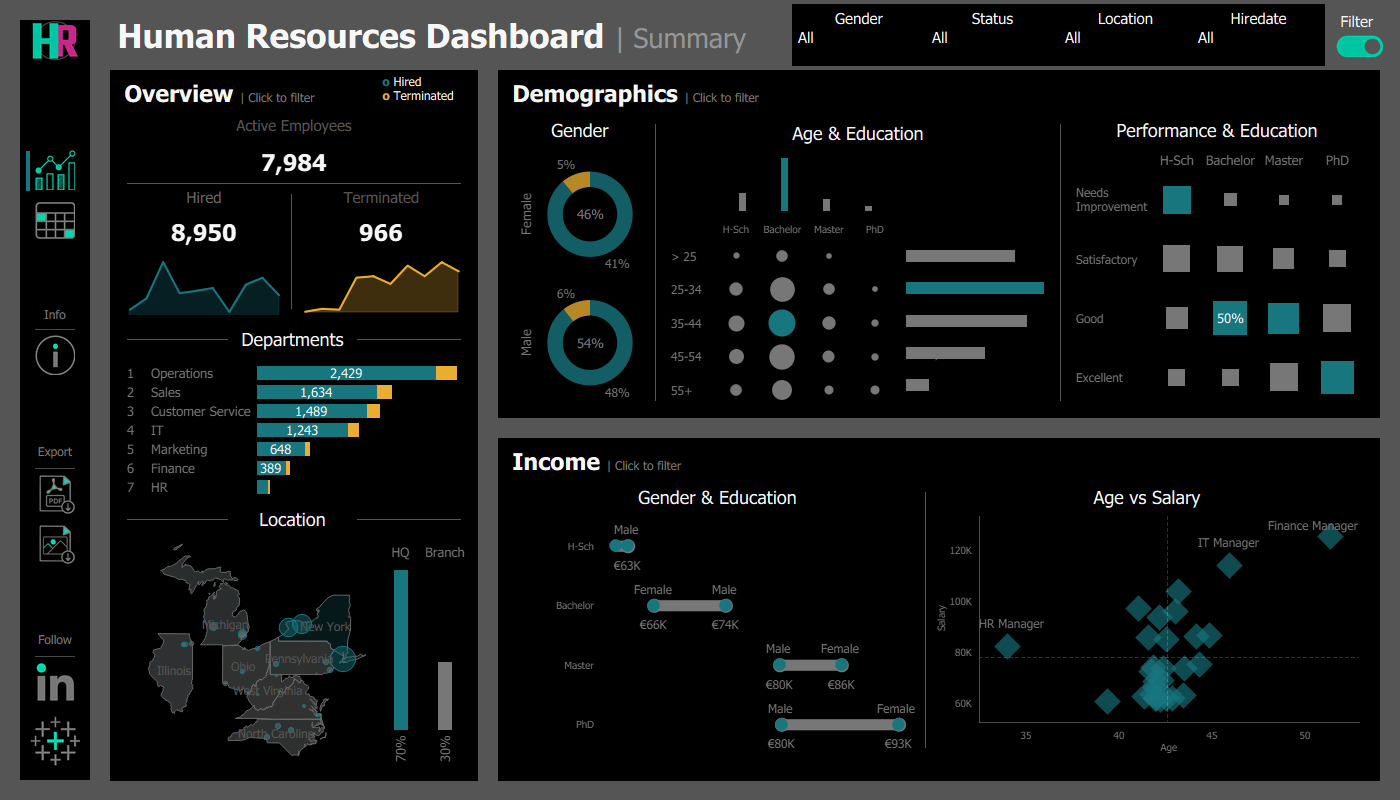

Layout of this report page (visuals, bound fields, positions):
{"tool":"tableau","page":{"name":"HR | Summary","canvas":[1400,800],"ordinal":1},"visuals":[{"type":"blank","box":[87,0,1314,236]},{"type":"text","box":[110,0,1270,70]},{"type":"filter","title":"Barbell Chart Salary vs Sex","param":"[federated.09x1m5c1q1dy1k1cbhton0vexwm2].[none:Gender:nk]","box":[792,4,134,62]},{"type":"filter","title":"Barbell Chart Salary vs Sex","param":"[federated.09x1m5c1q1dy1k1cbhton0vexwm2].[none:Calculation_1783425489573556236:n","box":[926,4,133,62]},{"type":"filter","title":"Barbell Chart Salary vs Sex","param":"[federated.09x1m5c1q1dy1k1cbhton0vexwm2].[none:Calculation_1088745234686869511:n","box":[1059,4,133,62]},{"type":"filter","title":"Barbell Chart Salary vs Sex","param":"[federated.09x1m5c1q1dy1k1cbhton0vexwm2].[yr:Hiredate:ok]","box":[1192,4,133,62]},{"type":"text","box":[1337,8,46,26]},{"type":"image","param":"Image/Logo.png","box":[20,20,70,40]},{"type":"dashboard-object","box":[1336,29,47,35]},{"type":"blank","box":[20,60,70,80]},{"type":"text","box":[379,64,79,50]},{"type":"text","box":[117,77,354,32]},{"type":"text","box":[505,77,868,32]},{"type":"text","box":[117,109,354,32]},{"type":"text","box":[510,114,140,32]},{"type":"blank","box":[655,114,1,297]},{"type":"text","box":[661,114,394,37]},{"type":"blank","box":[1060,114,1,297]},{"type":"text","box":[1066,114,302,32]},{"type":"worksheet","title":"Active","mark":"Automatic","box":[117,141,354,42]},{"type":"worksheet","title":"Gender","mark":"Pie","rows":["Gender"],"cols":["Calculation_1088745234693390345","Calculation_1088745234693390345"],"box":[510,146,140,265]},{"type":"worksheet","title":"Heatmap Edu vs Perf","mark":"Square","rows":["Performance Rating"],"cols":["Education Level"],"box":[1066,146,302,265]},{"type":"dashboard-object","box":[30,150,50,40]},{"type":"blank","box":[26,151,4,40]},{"type":"worksheet","title":"Education","mark":"Bar","rows":["Calculation_1088745234572148736"],"cols":["Education Level"],"box":[661,151,394,64]},{"type":"blank","box":[117,183,354,1]},{"type":"text","box":[117,184,174,27]},{"type":"blank","box":[291,184,1,135]},{"type":"text","box":[292,184,179,27]},{"type":"blank","box":[30,190,50,10]},{"type":"dashboard-object","box":[30,200,50,40]},{"type":"worksheet","title":"Hired","mark":"Automatic","box":[117,211,174,43]},{"type":"worksheet","title":"Terminated","mark":"Automatic","box":[292,211,179,43]},{"type":"worksheet","title":"Age vs Education","mark":"Circle","rows":["Calculation_1783425489475239946"],"cols":["Education Level"],"box":[661,215,241,196]},{"type":"worksheet","title":" Age Group","mark":"Bar","rows":["Calculation_1783425489475239946"],"cols":["Calculation_1088745234572148736"],"box":[902,215,153,196]},{"type":"text","box":[87,236,1314,250]},{"type":"blank","box":[30,240,50,64.3]},{"type":"worksheet","title":"Hired by Year","mark":"Automatic","rows":["Calculation_1088745234572148736","Calculation_1088745234572148736"],"cols":["Hiredate"],"box":[117,254,174,65]},{"type":"worksheet","title":"Terminated by Year","mark":"Automatic","rows":["Calculation_1088745234572603393","Calculation_1088745234572603393"],"cols":["Termdate"],"box":[292,254,179,65]},{"type":"text","box":[30,304.3,50,20]},{"type":"blank","box":[127,324,101,30]},{"type":"text","box":[228,324,129,30]},{"type":"blank","box":[357,324,104,30]},{"type":"blank","box":[30,324.3,50,11]},{"type":"dashboard-object","box":[30,335.3,50,40]},{"type":"worksheet","title":"Departments","mark":"Bar","rows":["Calculation_1088745234686386181","Department"],"cols":["Calculation_1088745234572148736"],"box":[117,359,354,141]},{"type":"blank","box":[30,375.3,50,64.3]},{"type":"text","box":[30,439.7,50,23]},{"type":"text","box":[505,445,868,32]},{"type":"blank","box":[30,462.7,50,11]},{"type":"dashboard-object","box":[30,473.7,50,40]},{"type":"text","box":[515,482,405,30]},{"type":"blank","box":[925,482,1,276]},{"type":"text","box":[931,482,432,30]},{"type":"blank","box":[87,486,1314,314]},{"type":"blank","box":[127,505,101,28]},{"type":"text","box":[228,505,129,28]},{"type":"blank","box":[357,505,104,28]},{"type":"worksheet","title":"Barbell Chart Salary vs Sex","mark":"Bar","rows":["Education Level"],"cols":["Salary","Salary"],"box":[515,512,405,246]},{"type":"worksheet","title":"Scatter Age vs Salary","mark":"Shape","rows":["Salary"],"cols":["Calculation_1088745234695249930"],"box":[931,512,432,246]},{"type":"blank","box":[30,513.7,50,10]},{"type":"dashboard-object","box":[30,523.7,50,40]},{"type":"worksheet","title":"Map States","mark":"Automatic","box":[117,538,257,236]},{"type":"worksheet","title":"Location","mark":"Bar","rows":["Calculation_1088745234572148736"],"cols":["Calculation_1088745234686869511","Calculation1"],"box":[374,538,97,236]},{"type":"blank","box":[30,563.7,50,64.3]},{"type":"text","box":[30,628,50,23]},{"type":"blank","box":[30,651,50,11]},{"type":"image","param":"Image/contact-linkedin.png","box":[30,662,50,40]},{"type":"blank","box":[30,702,50,10]},{"type":"image","param":"Image/contact-public.png","box":[30,712,50,58]}]}

Visuals, with their boxes in screenshot pixels (x1, y1, x2, y2), scaled from the page's 1400x800 canvas onto the 1400x800 screenshot:
blank: rect(87, 0, 1399, 236)
text: rect(110, 0, 1380, 70)
"Barbell Chart Salary vs Sex" filter: rect(792, 4, 926, 66)
"Barbell Chart Salary vs Sex" filter: rect(926, 4, 1059, 66)
"Barbell Chart Salary vs Sex" filter: rect(1059, 4, 1192, 66)
"Barbell Chart Salary vs Sex" filter: rect(1192, 4, 1325, 66)
text: rect(1337, 8, 1383, 34)
image: rect(20, 20, 90, 60)
dashboard-object: rect(1336, 29, 1383, 64)
blank: rect(20, 60, 90, 140)
text: rect(379, 64, 458, 114)
text: rect(117, 77, 471, 109)
text: rect(505, 77, 1373, 109)
text: rect(117, 109, 471, 141)
text: rect(510, 114, 650, 146)
blank: rect(655, 114, 656, 411)
text: rect(661, 114, 1055, 151)
blank: rect(1060, 114, 1061, 411)
text: rect(1066, 114, 1368, 146)
"Active" worksheet: rect(117, 141, 471, 183)
"Gender" worksheet (Pie marks): rect(510, 146, 650, 411)
"Heatmap Edu vs Perf" worksheet (Square marks): rect(1066, 146, 1368, 411)
dashboard-object: rect(30, 150, 80, 190)
blank: rect(26, 151, 30, 191)
"Education" worksheet (Bar marks): rect(661, 151, 1055, 215)
blank: rect(117, 183, 471, 184)
text: rect(117, 184, 291, 211)
blank: rect(291, 184, 292, 319)
text: rect(292, 184, 471, 211)
blank: rect(30, 190, 80, 200)
dashboard-object: rect(30, 200, 80, 240)
"Hired" worksheet: rect(117, 211, 291, 254)
"Terminated" worksheet: rect(292, 211, 471, 254)
"Age vs Education" worksheet (Circle marks): rect(661, 215, 902, 411)
" Age Group" worksheet (Bar marks): rect(902, 215, 1055, 411)
text: rect(87, 236, 1399, 486)
blank: rect(30, 240, 80, 304)
"Hired by Year" worksheet: rect(117, 254, 291, 319)
"Terminated by Year" worksheet: rect(292, 254, 471, 319)
text: rect(30, 304, 80, 324)
blank: rect(127, 324, 228, 354)
text: rect(228, 324, 357, 354)
blank: rect(357, 324, 461, 354)
blank: rect(30, 324, 80, 335)
dashboard-object: rect(30, 335, 80, 375)
"Departments" worksheet (Bar marks): rect(117, 359, 471, 500)
blank: rect(30, 375, 80, 440)
text: rect(30, 440, 80, 463)
text: rect(505, 445, 1373, 477)
blank: rect(30, 463, 80, 474)
dashboard-object: rect(30, 474, 80, 514)
text: rect(515, 482, 920, 512)
blank: rect(925, 482, 926, 758)
text: rect(931, 482, 1363, 512)
blank: rect(87, 486, 1399, 799)
blank: rect(127, 505, 228, 533)
text: rect(228, 505, 357, 533)
blank: rect(357, 505, 461, 533)
"Barbell Chart Salary vs Sex" worksheet (Bar marks): rect(515, 512, 920, 758)
"Scatter Age vs Salary" worksheet (Shape marks): rect(931, 512, 1363, 758)
blank: rect(30, 514, 80, 524)
dashboard-object: rect(30, 524, 80, 564)
"Map States" worksheet: rect(117, 538, 374, 774)
"Location" worksheet (Bar marks): rect(374, 538, 471, 774)
blank: rect(30, 564, 80, 628)
text: rect(30, 628, 80, 651)
blank: rect(30, 651, 80, 662)
image: rect(30, 662, 80, 702)
blank: rect(30, 702, 80, 712)
image: rect(30, 712, 80, 770)
